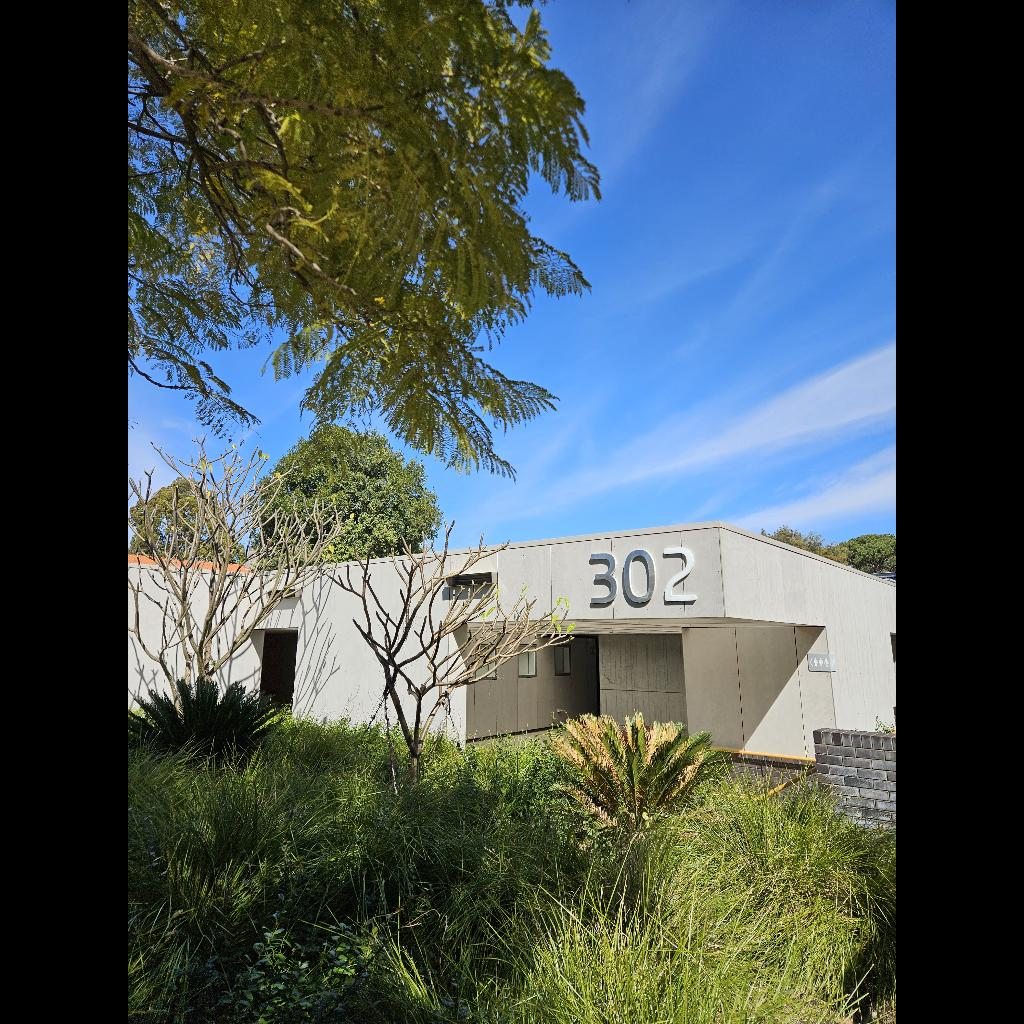BuildingCodes: (590, 548, 698, 604)
